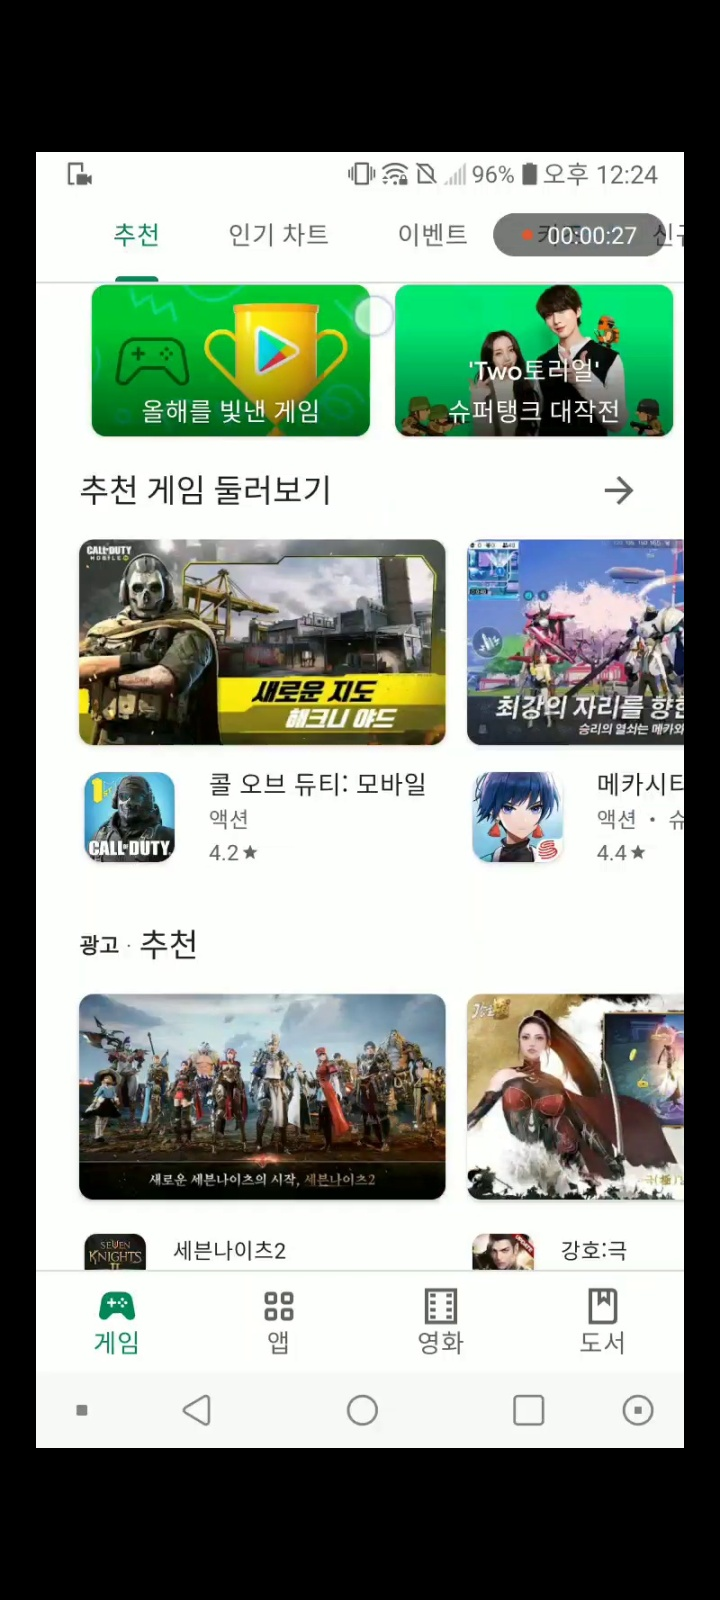Cursor: (352, 295, 397, 340)
